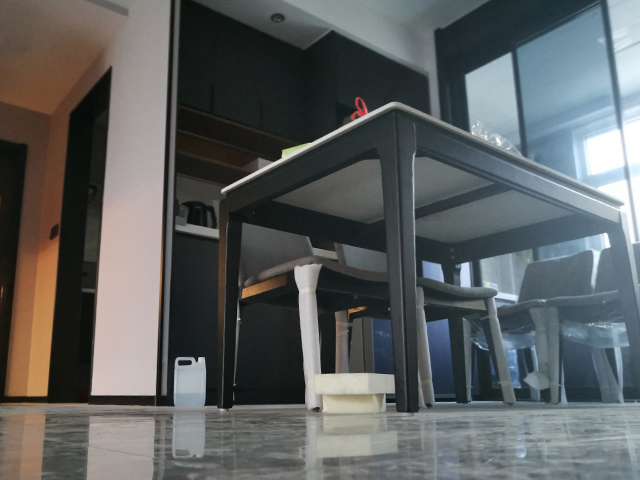stool: (238, 221, 418, 413), (339, 241, 502, 406), (495, 249, 602, 406)
table: (214, 100, 639, 416)
